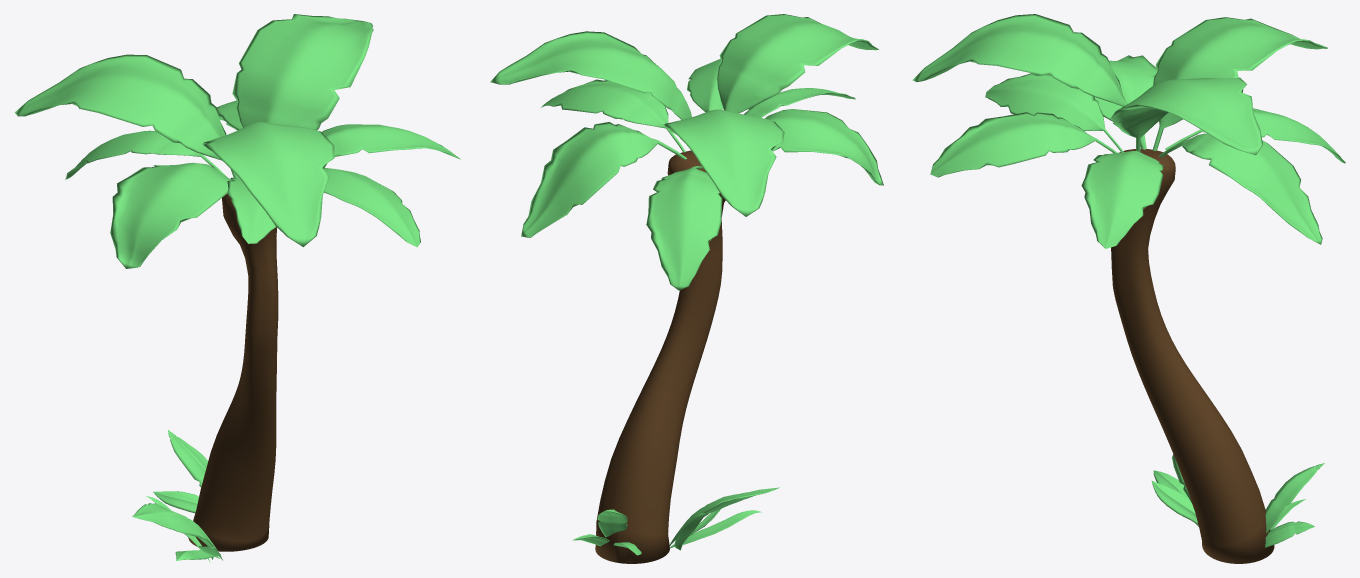
Rendered from Tree2.fbx.
3 renders of one model, left to right at view 1: azimuth 30°, elevation 25°; view 2: azimuth 150°, elevation 25°; view 3: azimuth 270°, elevation 25°, orthographic. The views are drawn at different scales.
Visible parts, largest first — view 1: Tree leaves, TreeTrunk, Leaves.001; view 2: Tree leaves, TreeTrunk, Leaves.001; view 3: Tree leaves, TreeTrunk, Leaves.001.
Boxes of the visible parts, x1,y1,x2,y2 form: Tree leaves: (14, 14, 460, 268); TreeTrunk: (188, 193, 278, 551); Leaves.001: (132, 430, 222, 562); Tree leaves: (490, 14, 883, 290); TreeTrunk: (595, 150, 725, 563); Leaves.001: (572, 487, 779, 555); Tree leaves: (912, 14, 1345, 248); TreeTrunk: (1111, 148, 1274, 563); Leaves.001: (1151, 454, 1324, 547).
Bounding box in the file's own units: 696 × 966 × 765.
